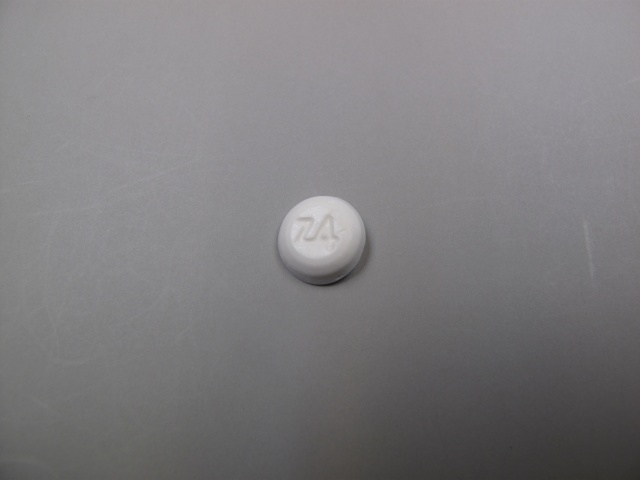LA: (291, 213, 345, 260)
